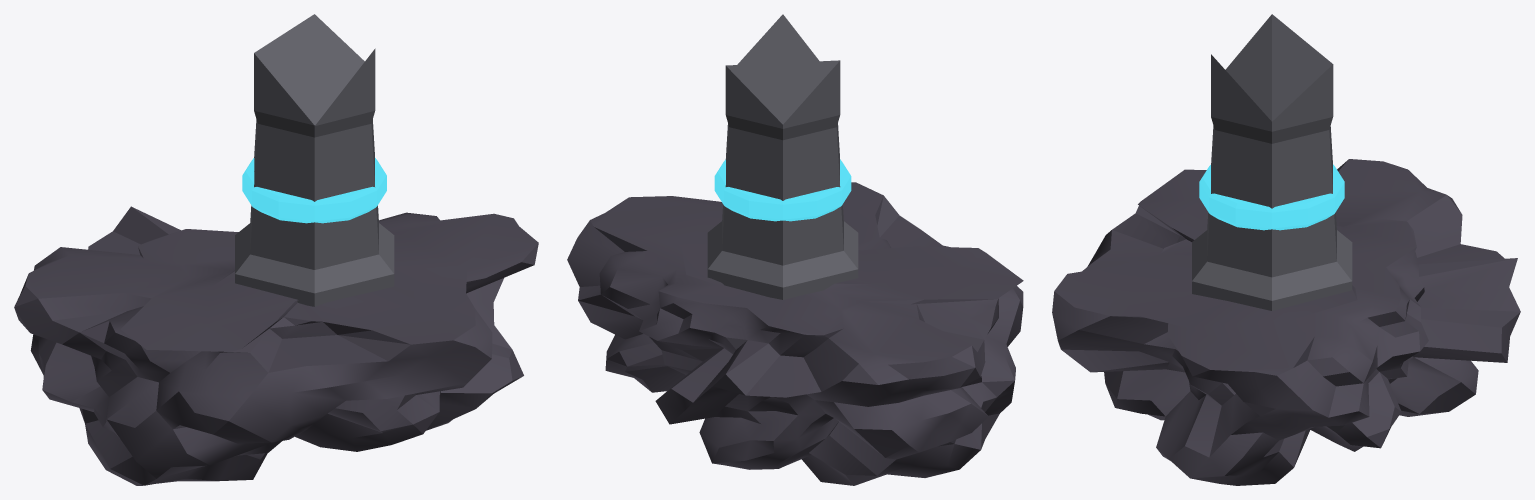
Rendered from Debris_06_quest.glb.
3 views of the same model, side by side, from view 1: azimuth 30°, elevation 25°; view 2: azimuth 150°, elevation 25°; view 3: azimuth 270°, elevation 25° (orthographic). The views are drawn at different scales.
Parts seen in each view (by area): view 1: Debris_06_Rock, Debris_06_Stump, Debris_06_Glow; view 2: Debris_06_Rock, Debris_06_Stump, Debris_06_Glow; view 3: Debris_06_Rock, Debris_06_Stump, Debris_06_Glow.
Boxes of the visible parts, <box> form: Debris_06_Rock: <box>14,206,538,485</box>; Debris_06_Stump: <box>235,14,394,306</box>; Debris_06_Glow: <box>242,158,386,223</box>; Debris_06_Rock: <box>567,182,1023,485</box>; Debris_06_Stump: <box>707,14,858,299</box>; Debris_06_Glow: <box>714,159,851,221</box>; Debris_06_Rock: <box>1052,159,1520,485</box>; Debris_06_Stump: <box>1192,14,1352,310</box>; Debris_06_Glow: <box>1199,164,1344,230</box>.
Size of the model in its own units: 2.43 by 2.14 by 2.13.
